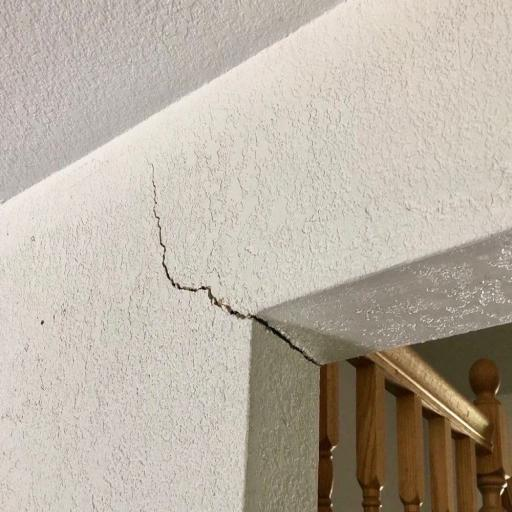spalling: (219, 306, 318, 365), (167, 273, 210, 292), (153, 168, 160, 234), (161, 240, 166, 272)
